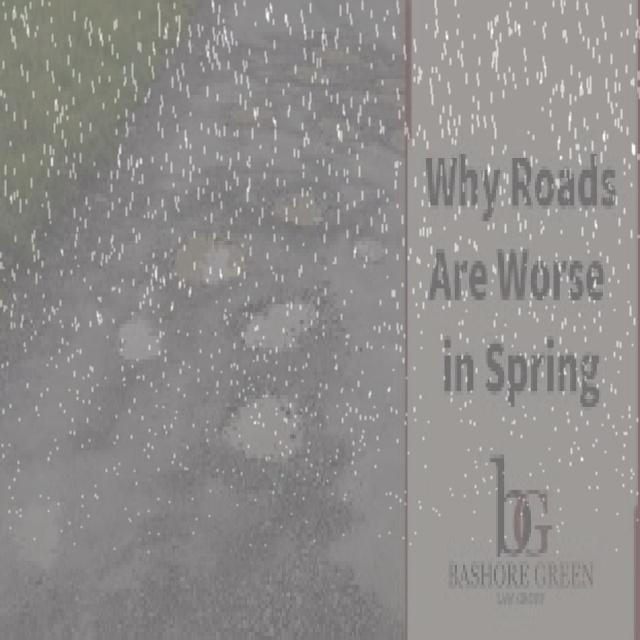Pothole: (212, 380, 318, 469), (229, 296, 345, 362), (163, 228, 246, 306), (103, 306, 168, 367), (269, 178, 328, 228), (308, 37, 374, 70), (223, 95, 278, 132), (348, 228, 392, 268), (280, 60, 328, 93), (376, 122, 409, 160), (372, 74, 409, 107)
